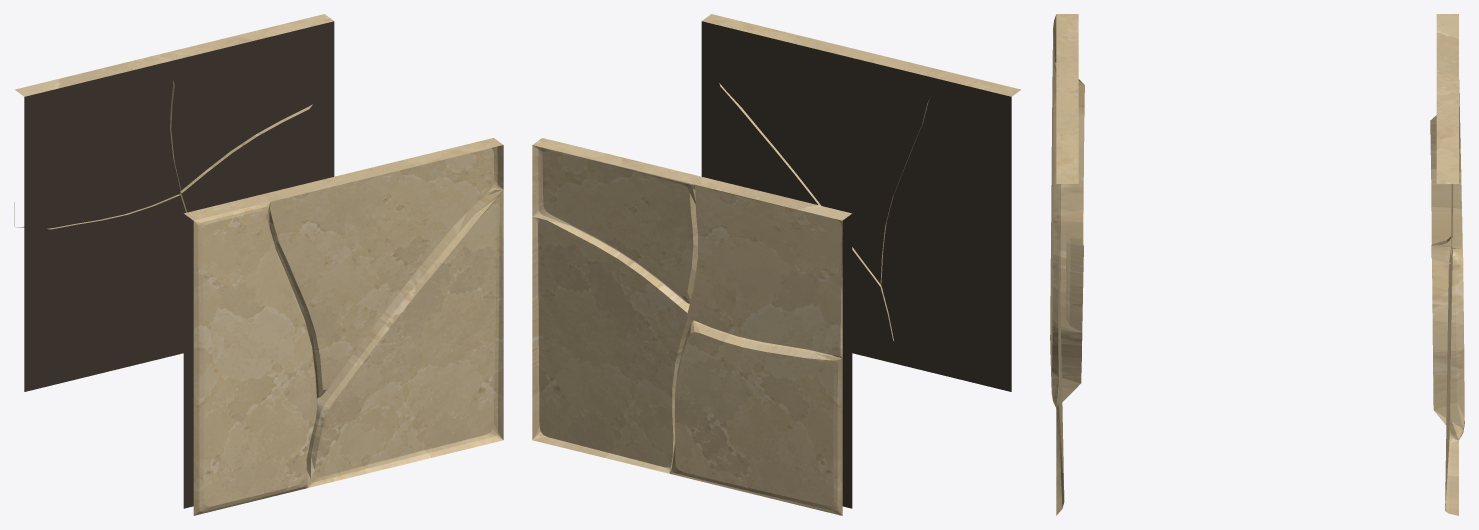
Rendered from ground_strip_08.glb.
The picture shows the model from 3 angles, left to right: view 1: azimuth 30°, elevation 25°; view 2: azimuth 150°, elevation 25°; view 3: azimuth 270°, elevation 25°; orthographic projection. The views are drawn at different scales.
Visible parts, largest first — view 1: GroundStrip08_Body; view 2: GroundStrip08_Body; view 3: GroundStrip08_Body.
Boxes of the visible parts, x1,y1,x2,y2 form: GroundStrip08_Body: [14, 14, 503, 515]; GroundStrip08_Body: [532, 14, 1020, 515]; GroundStrip08_Body: [1050, 14, 1464, 515].
Bounding box in the file's own units: 1 × 0.91 × 1.03.
Materials: 9 (8 with a texture image).
